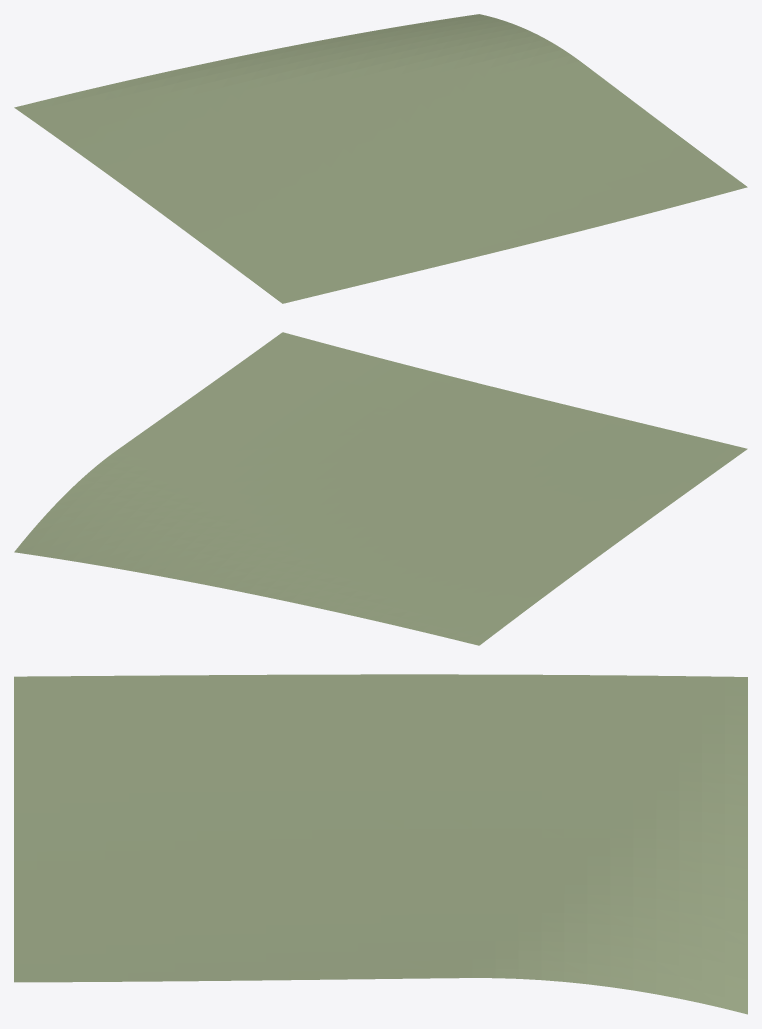
Rendered from expanse-20-3.glb.
The picture shows the model from 3 angles, top to bottom: view 1: azimuth 30°, elevation 25°; view 2: azimuth 150°, elevation 25°; view 3: azimuth 270°, elevation 25°; orthographic projection. The views are drawn at different scales.
Visible parts, largest first — view 1: expanse-20-3; view 2: expanse-20-3; view 3: expanse-20-3.
Boxes of the visible parts, bbox=[...] form: expanse-20-3: bbox=[14, 14, 747, 303]; expanse-20-3: bbox=[14, 332, 747, 645]; expanse-20-3: bbox=[14, 674, 747, 1014].
Bounding box in the file's own units: 256 × 14.06 × 256.
